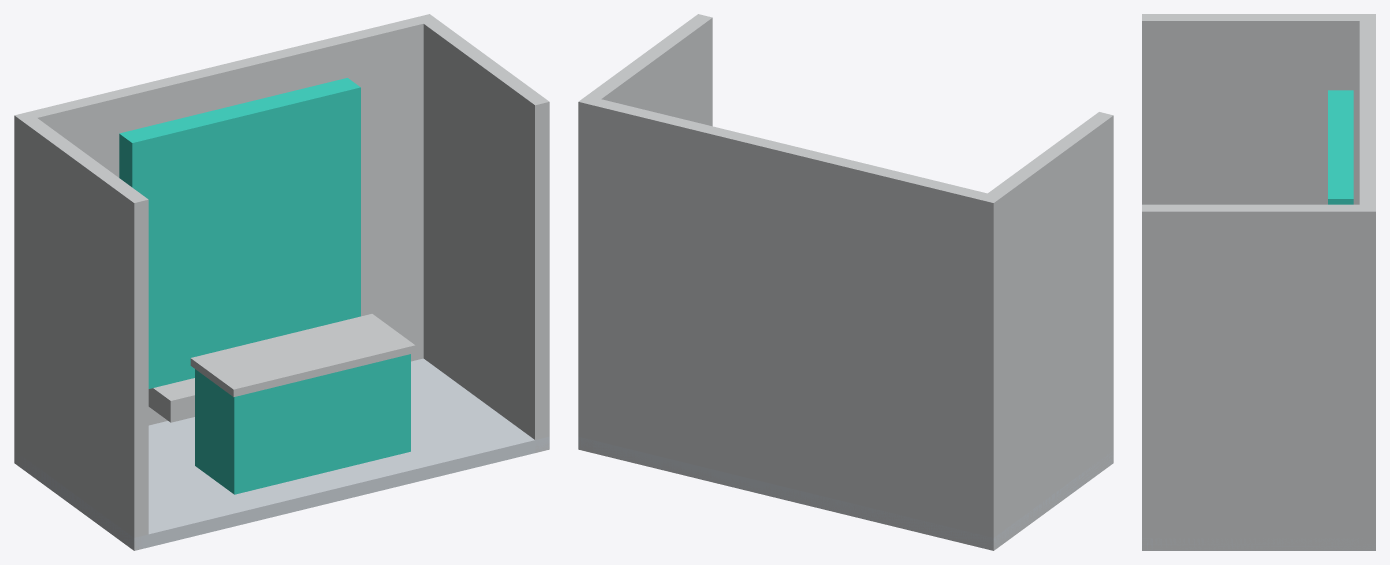
3 views of the same model, side by side, from view 1: azimuth 30°, elevation 25°; view 2: azimuth 150°, elevation 25°; view 3: azimuth 270°, elevation 25° (orthographic). The views are drawn at different scales.
Visible parts, largest first — view 1: Exhibition Booth Concept; view 2: Exhibition Booth Concept; view 3: Exhibition Booth Concept.
Part boxes in pixels (bbox=[...]): Exhibition Booth Concept: bbox=[14, 14, 549, 550]; Exhibition Booth Concept: bbox=[578, 14, 1113, 550]; Exhibition Booth Concept: bbox=[1142, 14, 1375, 550].
Bounding box in the file's own units: 4 × 3.2 × 2.
